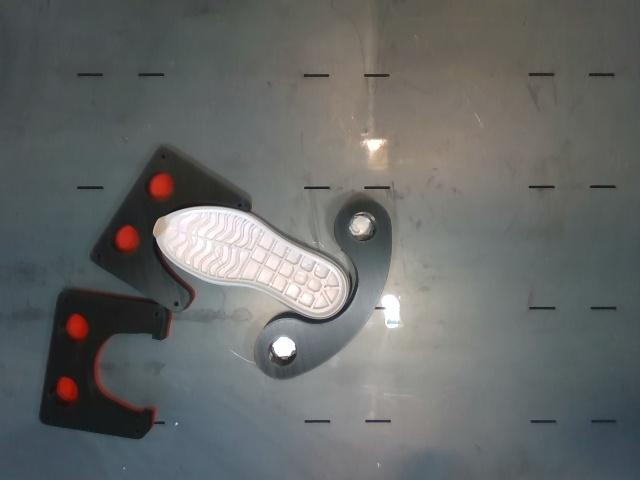shoes: (154, 208, 348, 317)
